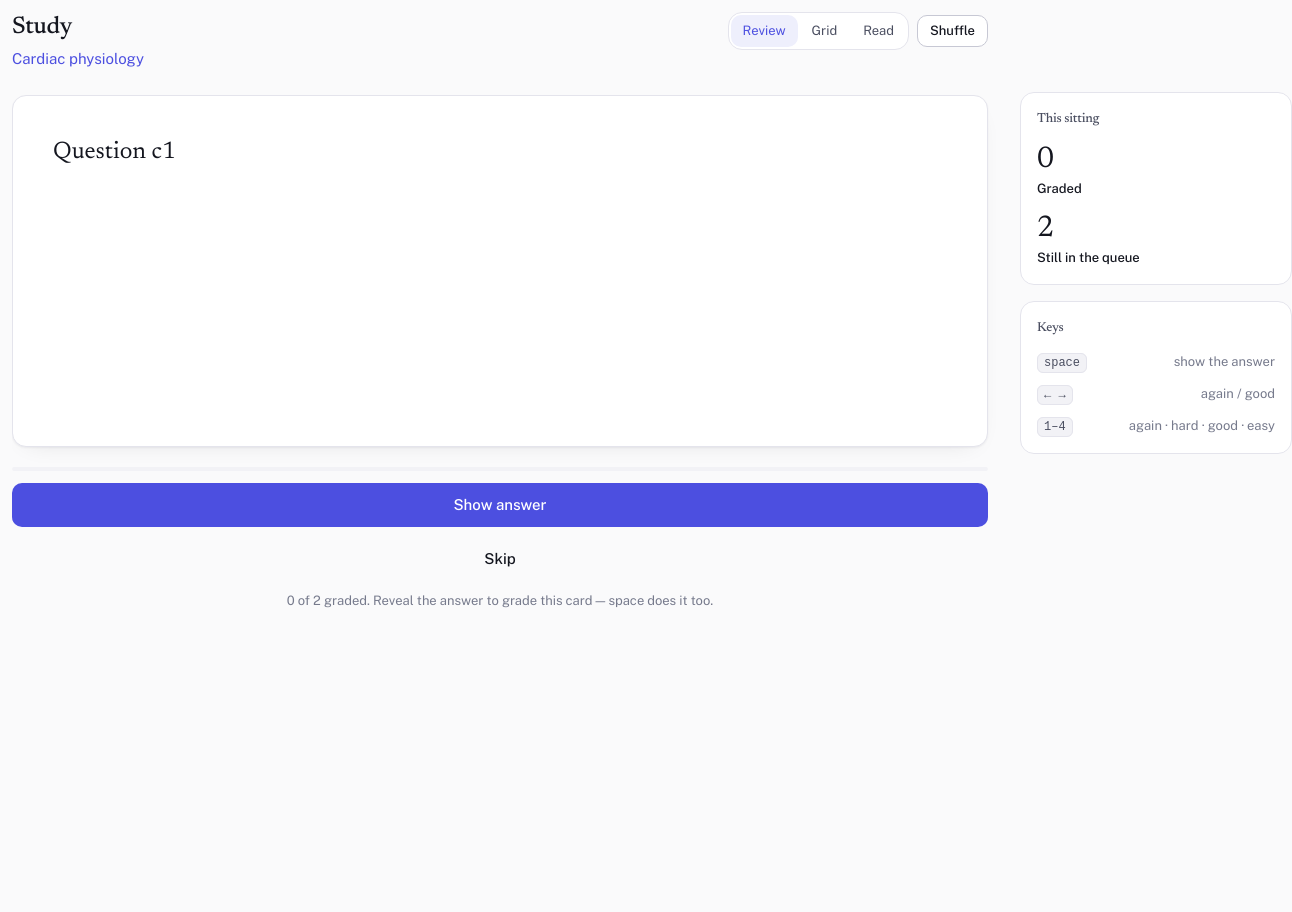
Test: StudySession undo › offers undo on a mid-session grade
Click the button "Show answer" at (500, 505), box [12,483,988,527]
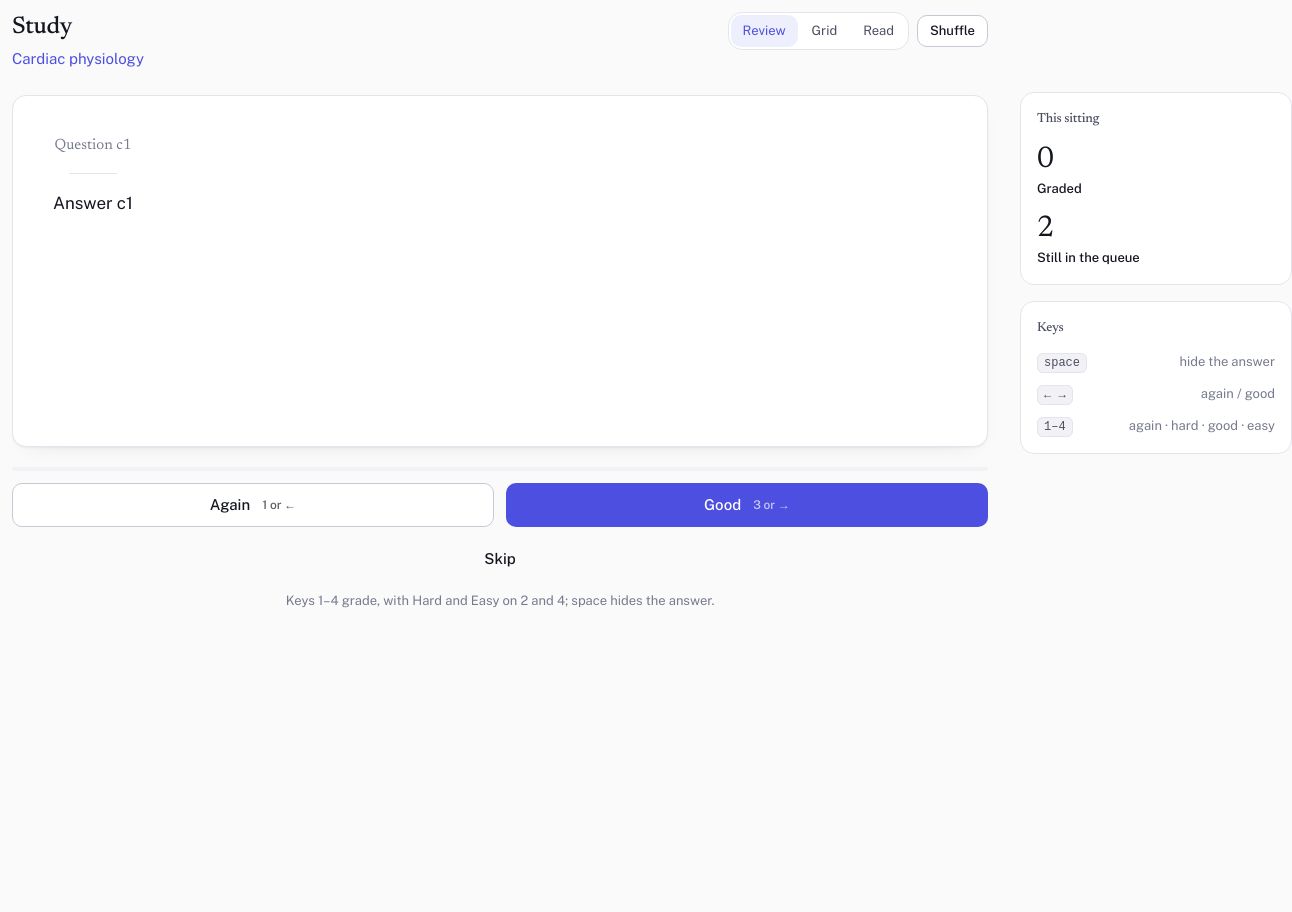
Click the button "Good 3 or →" at (723, 505), box [506,483,988,527]
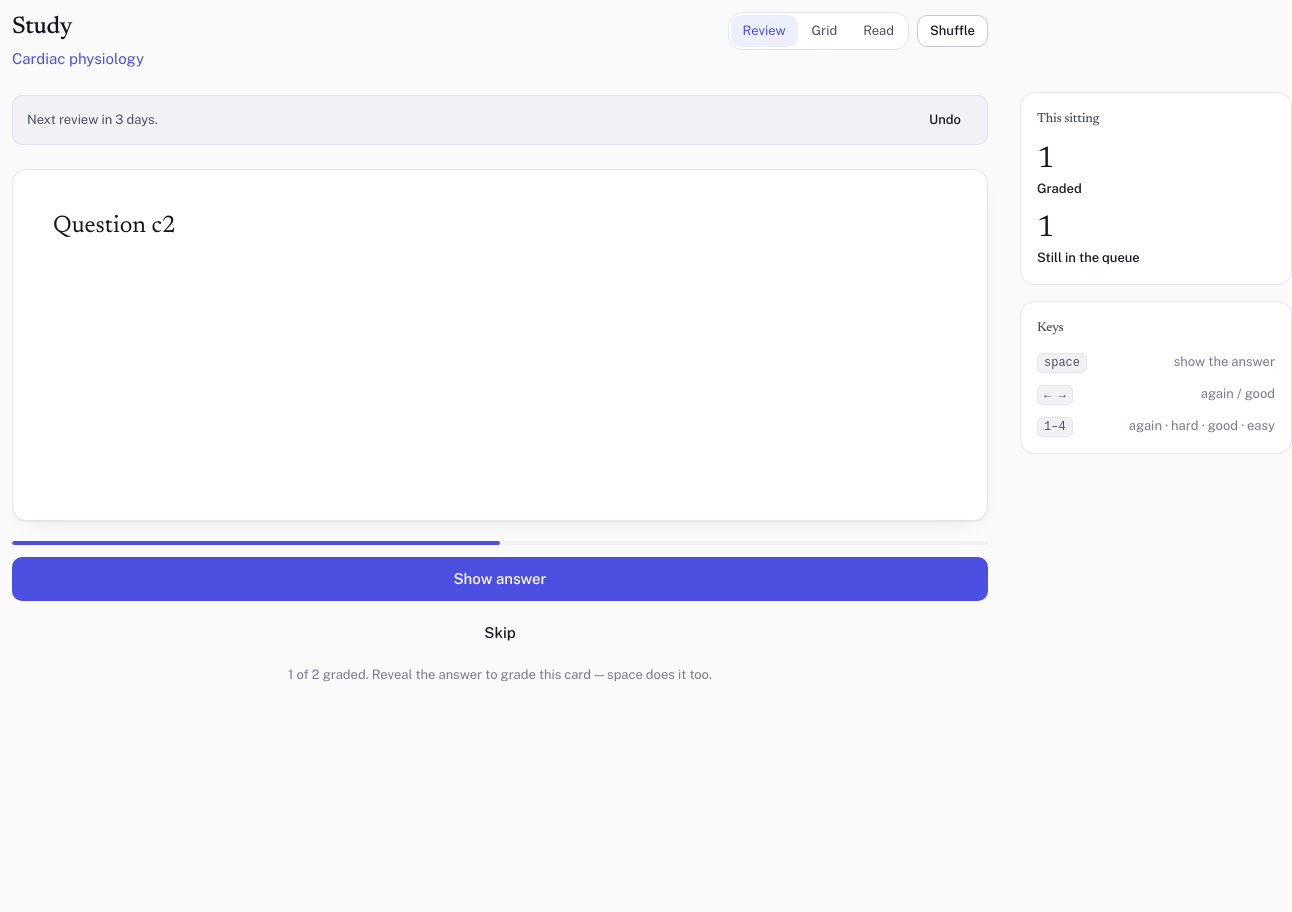
Expected: the button "Undo" is shown, [917,104,973,136]
